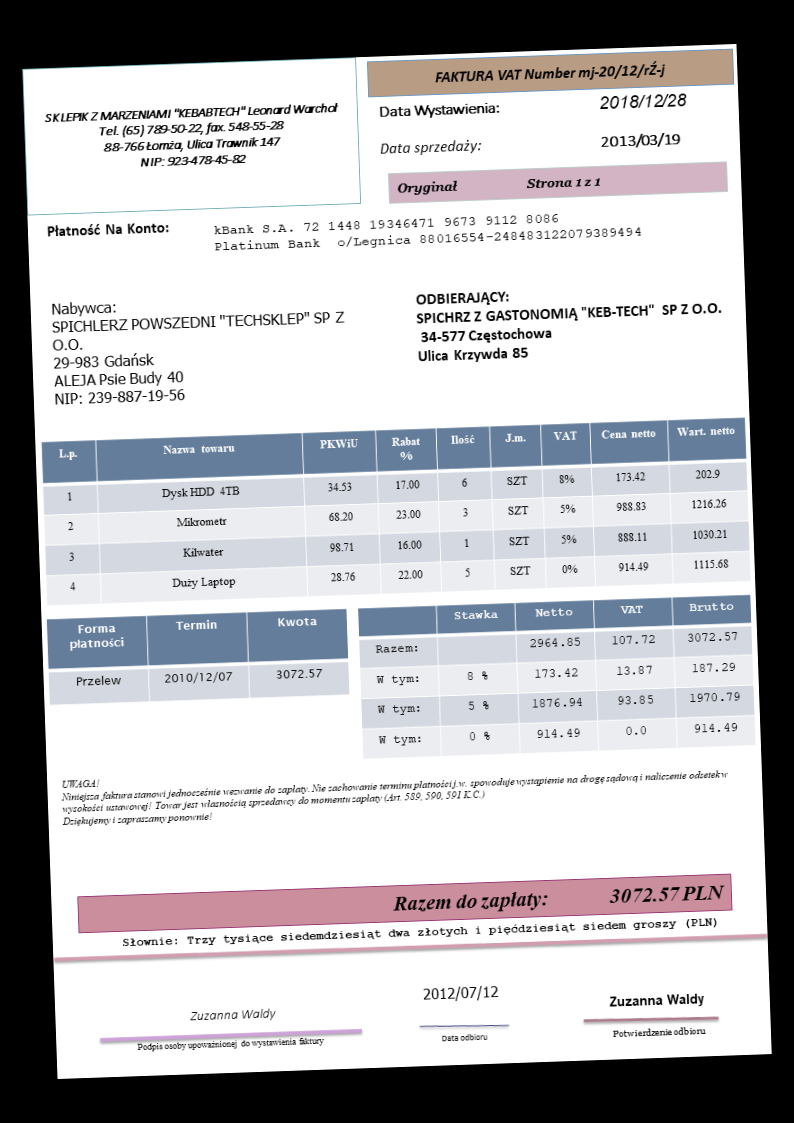Table: (39, 413, 753, 608), (355, 591, 758, 760), (45, 605, 351, 707)
TextBox: (59, 753, 733, 829), (48, 289, 350, 409), (411, 279, 726, 367), (42, 98, 344, 175), (119, 914, 720, 951), (209, 206, 645, 255), (389, 878, 728, 917), (432, 60, 669, 87), (394, 171, 604, 200), (134, 1032, 328, 1055), (376, 96, 503, 123), (374, 134, 485, 159), (44, 219, 173, 240), (605, 987, 708, 1011), (597, 89, 689, 115), (610, 1020, 708, 1043), (185, 1003, 279, 1025), (417, 981, 501, 1004), (596, 130, 683, 152), (438, 1027, 490, 1047)
